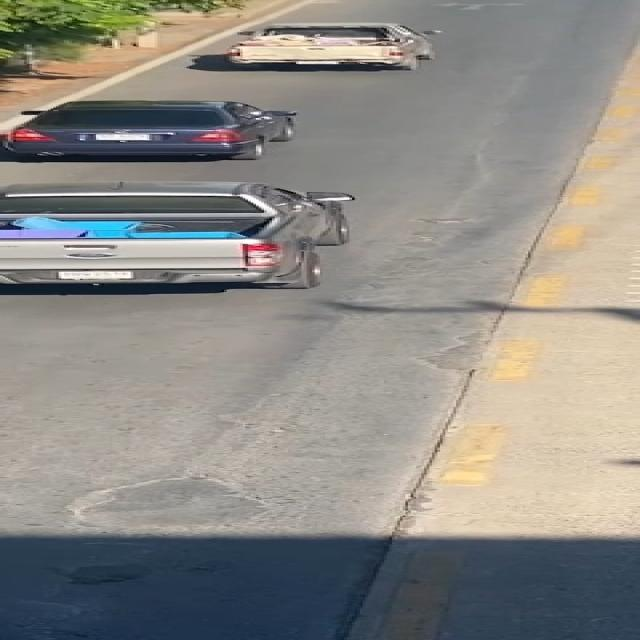car: (0, 176, 384, 305), (0, 91, 328, 170), (202, 22, 484, 79)
